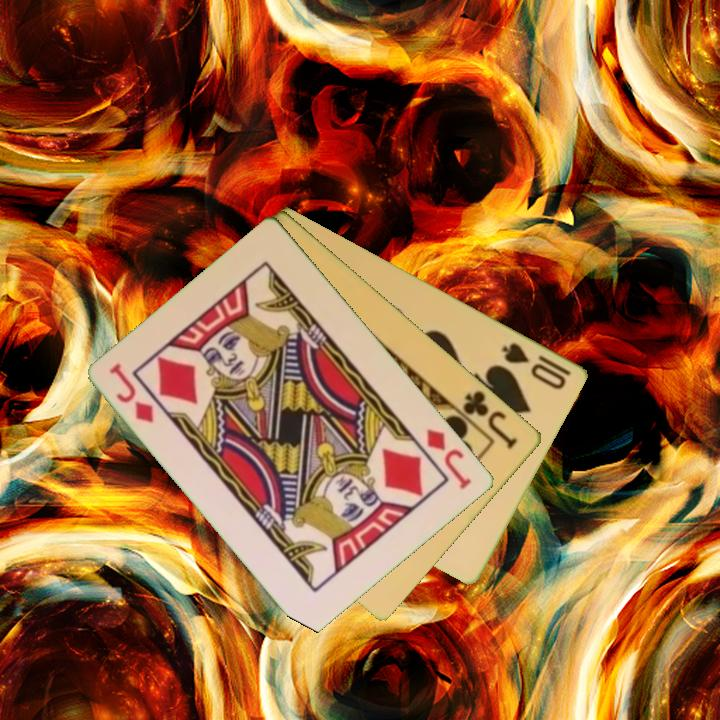10s: (498, 338, 570, 393)
Jc: (459, 386, 521, 452)
Jd: (423, 425, 476, 492), (106, 359, 158, 426)
